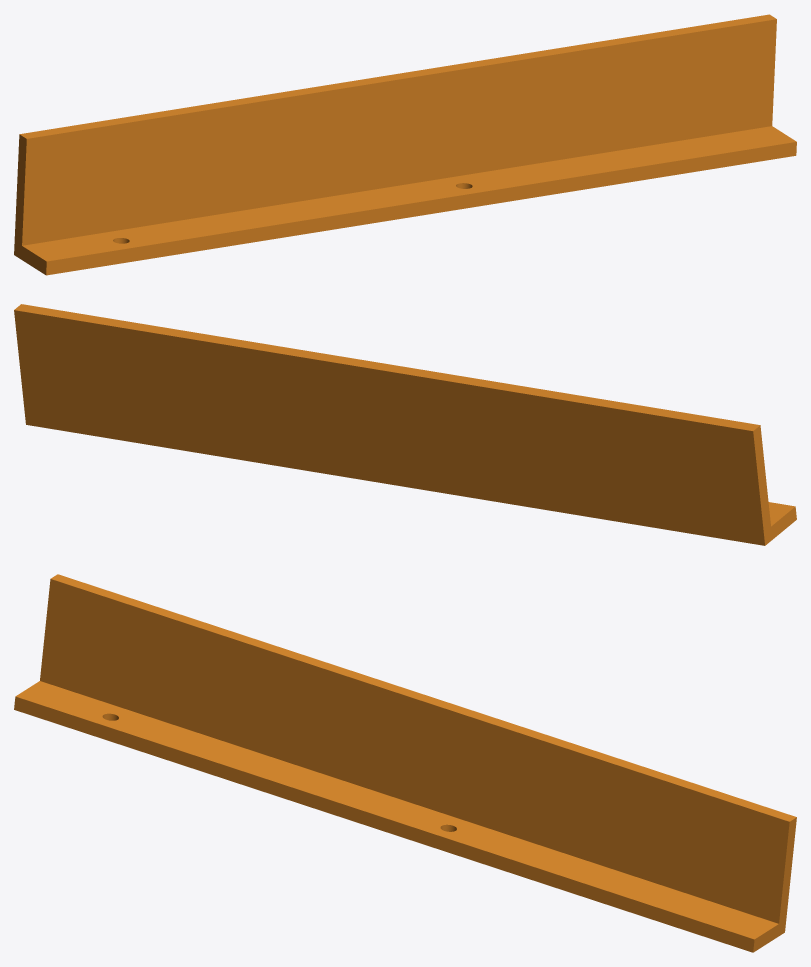
File: bj_borda_t1.glb
3 views of the same model, one above another, from view 1: azimuth 30°, elevation 25°; view 2: azimuth 150°, elevation 25°; view 3: azimuth 330°, elevation 25° (orthographic).
Parts seen in each view (by area): view 1: bj_borda_t1; view 2: bj_borda_t1; view 3: bj_borda_t1.
Boxes of the visible parts, x1=… form: bj_borda_t1: x1=14, y1=14, x2=796, y2=275; bj_borda_t1: x1=14, y1=304, x2=796, y2=545; bj_borda_t1: x1=14, y1=574, x2=796, y2=952.
Size of the model in its own units: 177 by 39.75 by 15.06.
